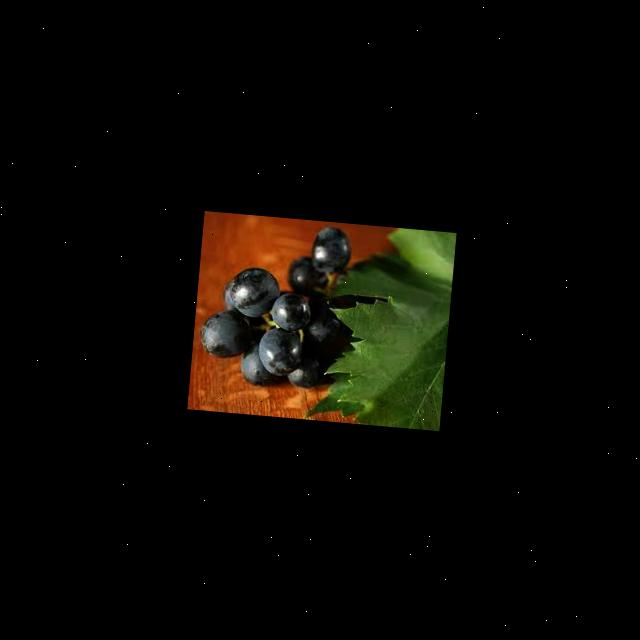grape: (195, 213, 394, 394)
